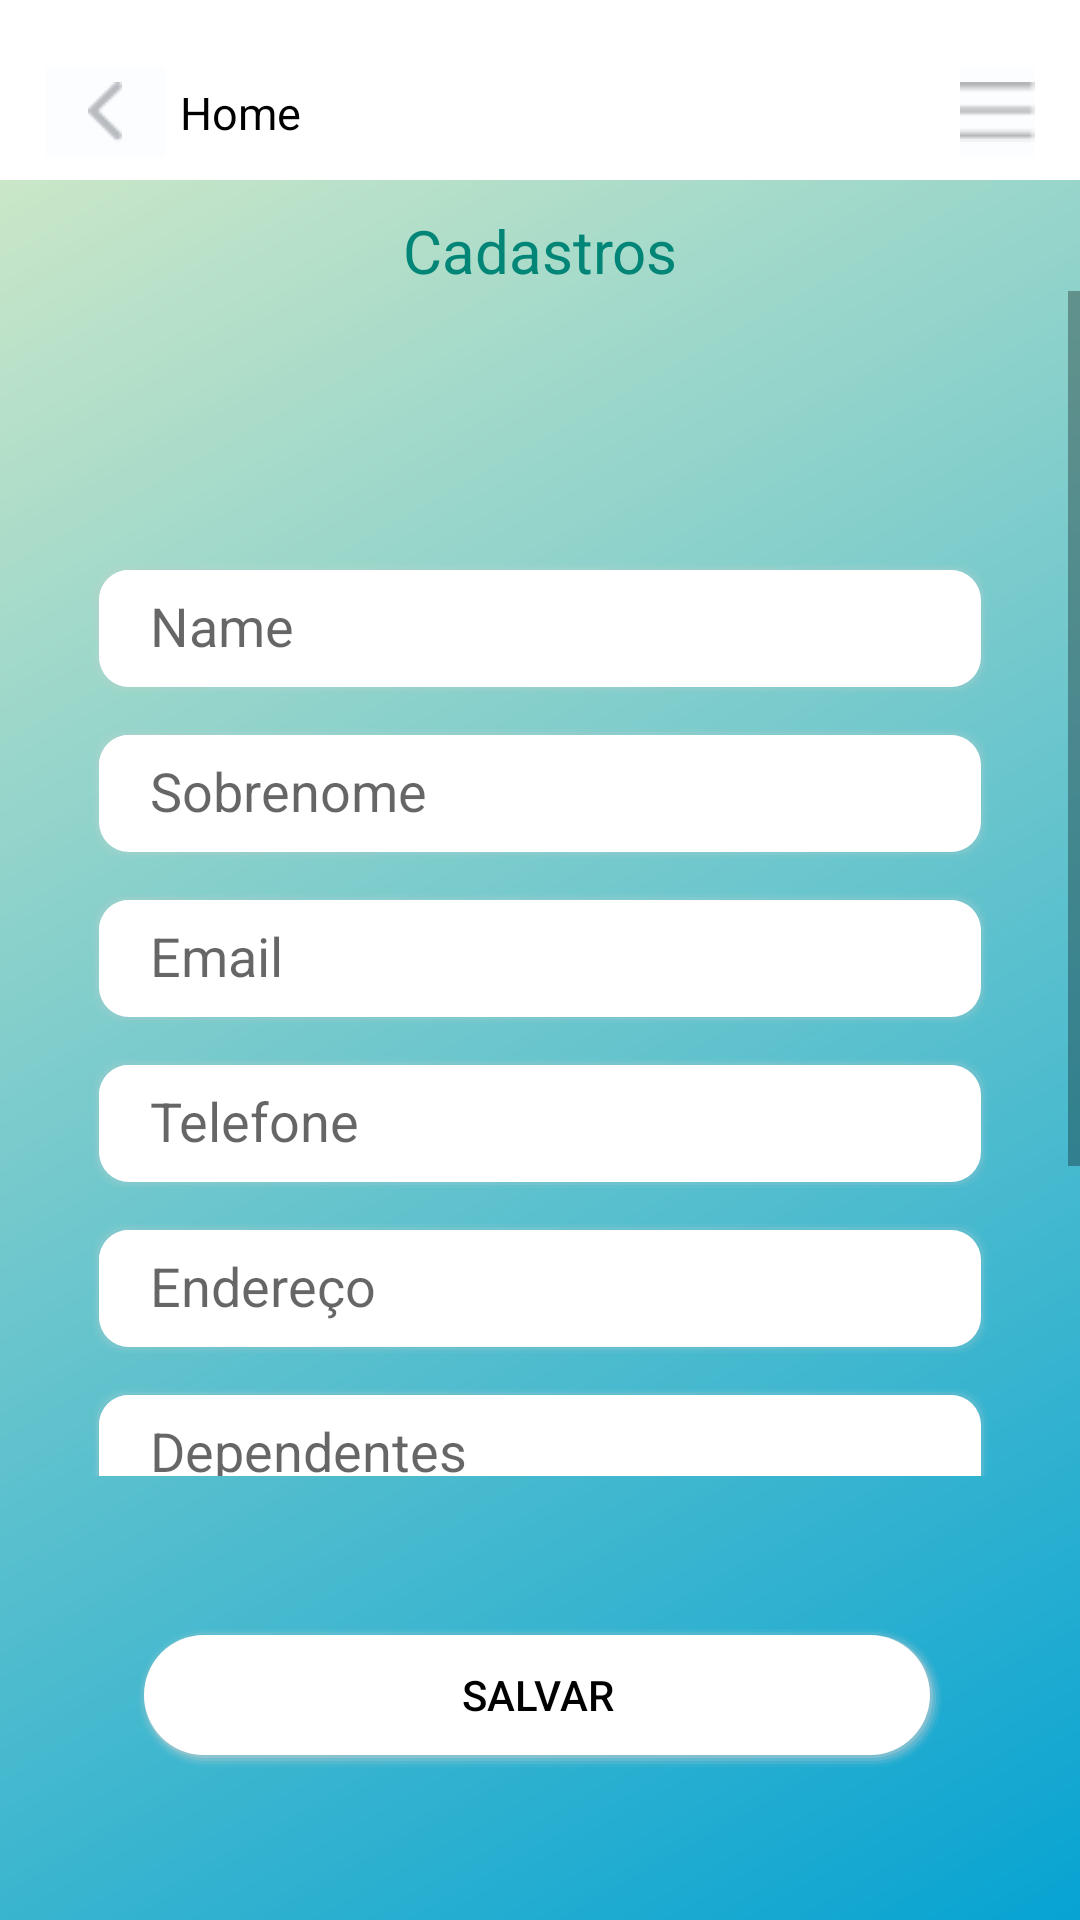

Where to tap for icons on this 1080×1920 app screen, as (x,y):
arrow back: (105,111)
menu: (997,110)
